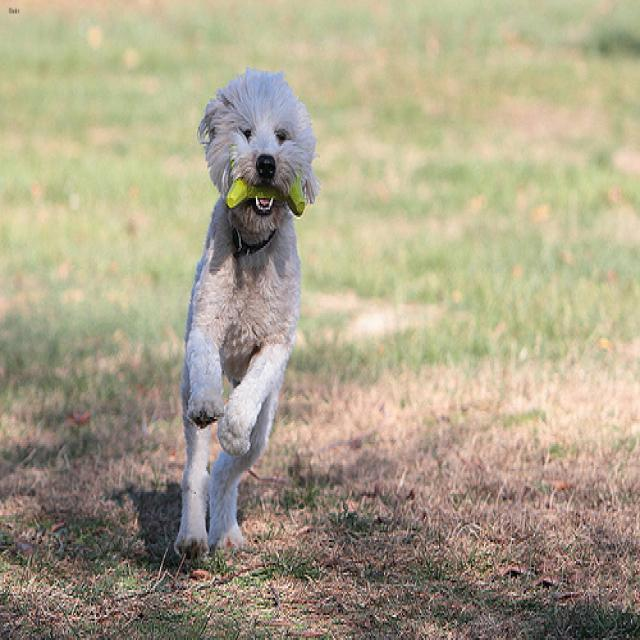dog-wheaten_terrier: (170, 62, 321, 561)
